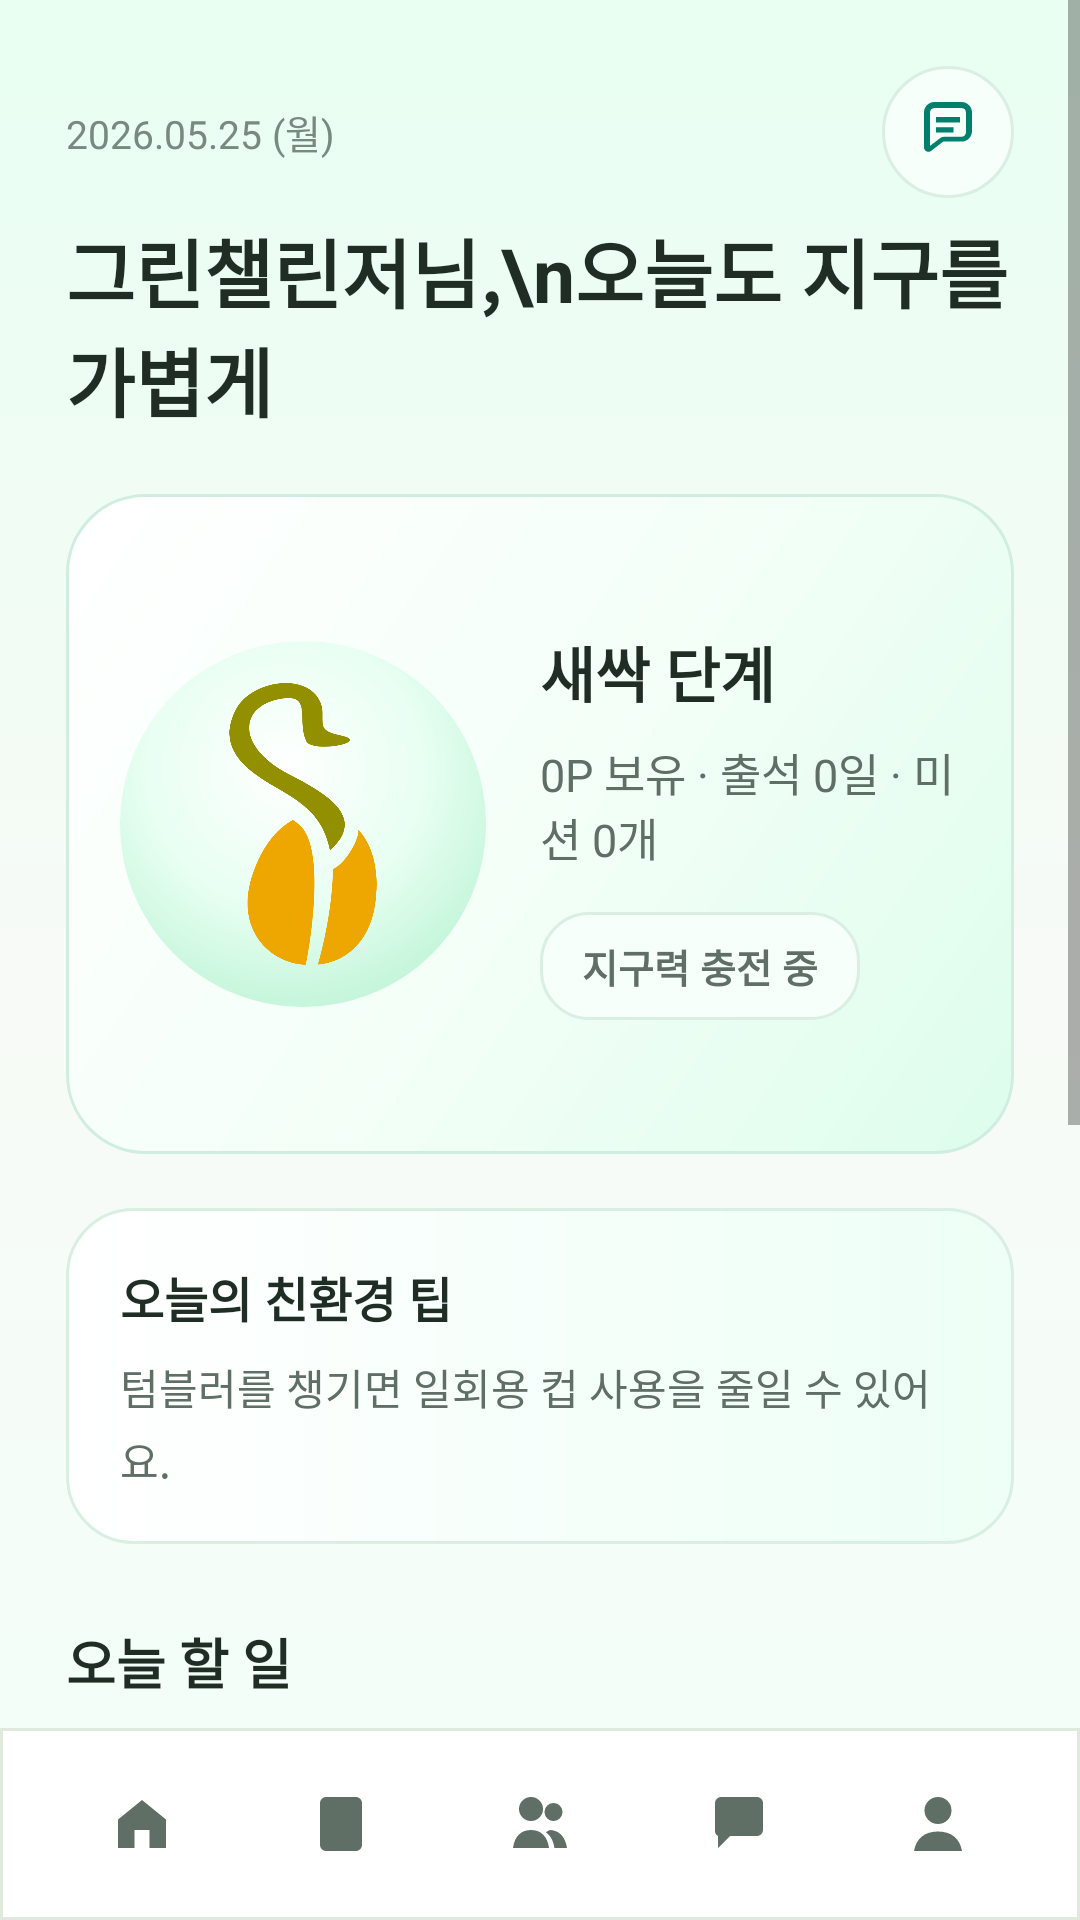

Named icons in this screenshot (1080 x 1920) and their bounding boxes, [x1,y1,x2,y2]:
home: [118,1800,166,1848]
마이페이지: [914,1797,962,1851]
친구: [513,1797,567,1848]
